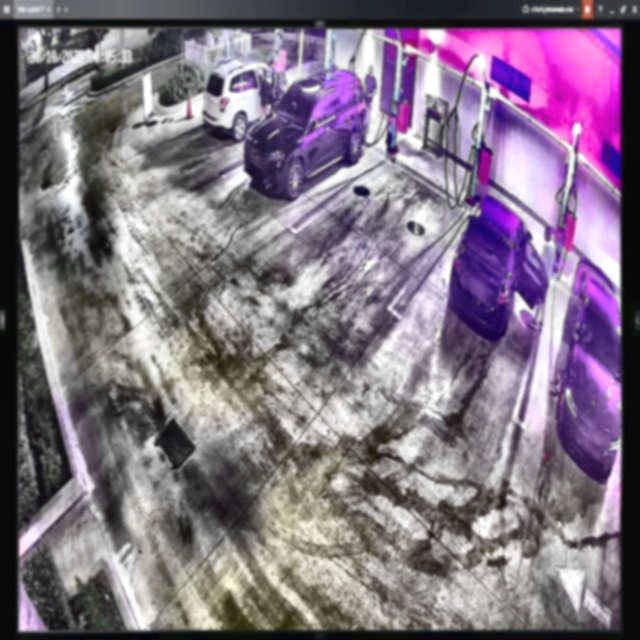Car: (240, 66, 370, 196), (449, 191, 548, 341)
